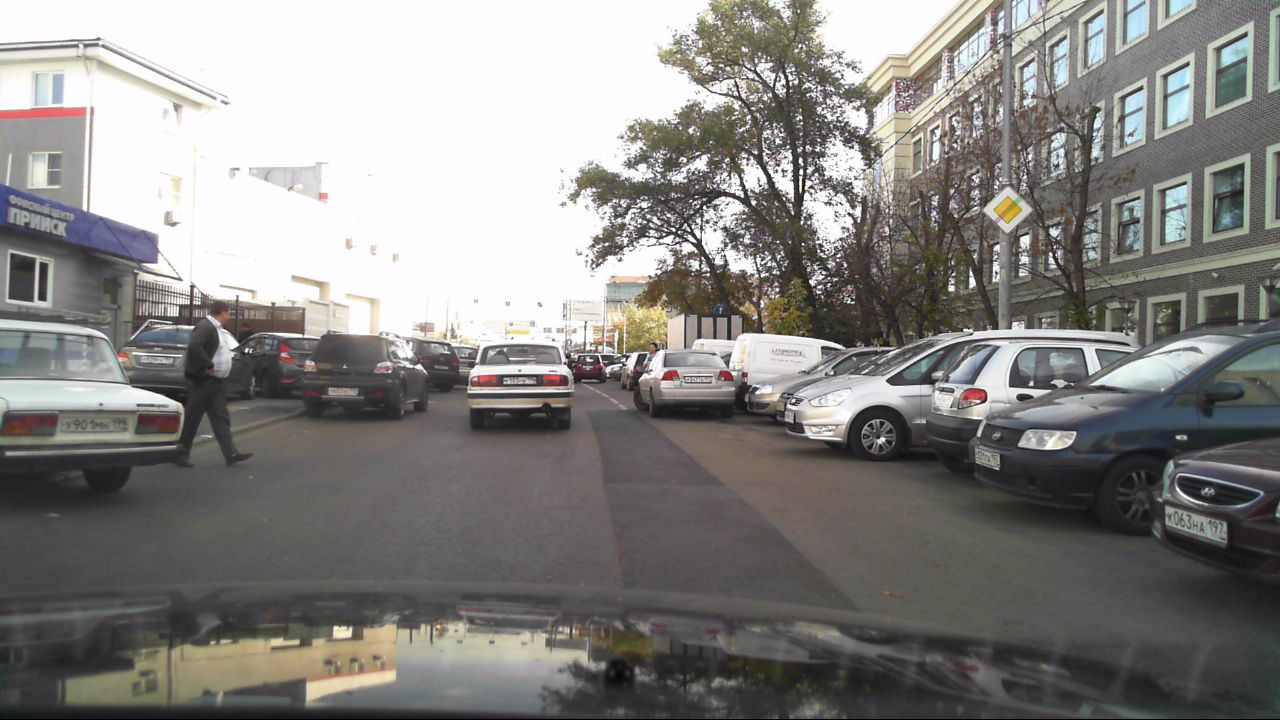main road: (984, 185, 1034, 234)
